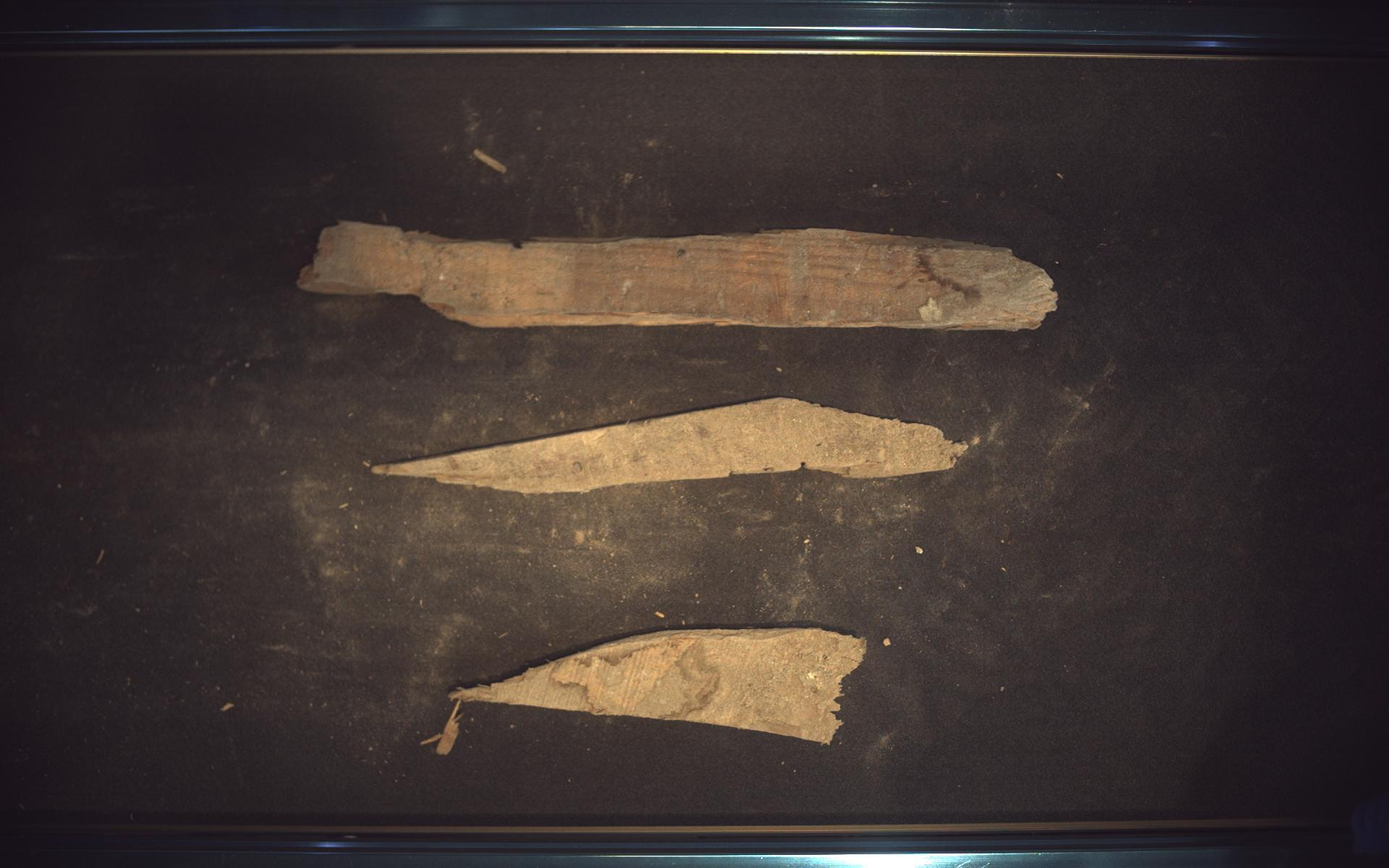wood: (297, 221, 1059, 330), (372, 398, 969, 494), (422, 629, 867, 757)
